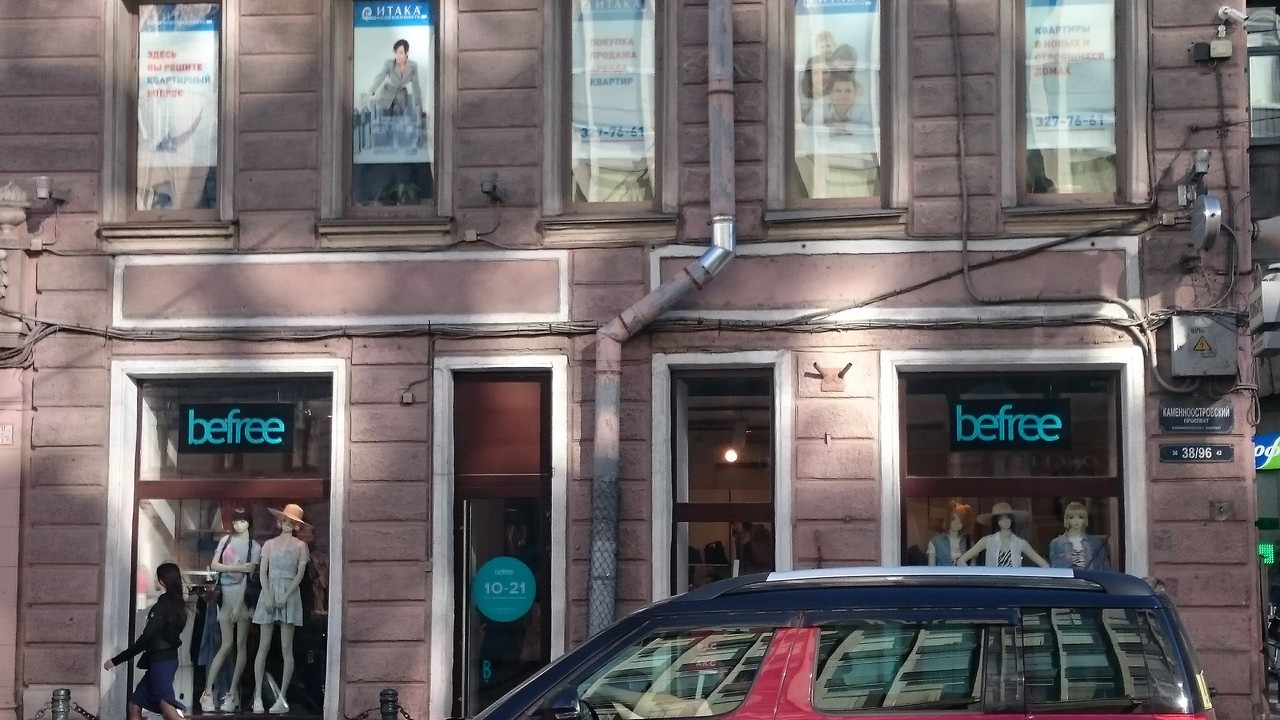cantilever: (1177, 151, 1220, 249)
signboard: (181, 407, 288, 452)
window: (129, 376, 336, 719), (899, 370, 1127, 578), (454, 378, 552, 689), (669, 366, 775, 577), (782, 1, 884, 209), (130, 1, 225, 222), (346, 1, 440, 218), (1025, 1, 1124, 207), (562, 1, 658, 210)
